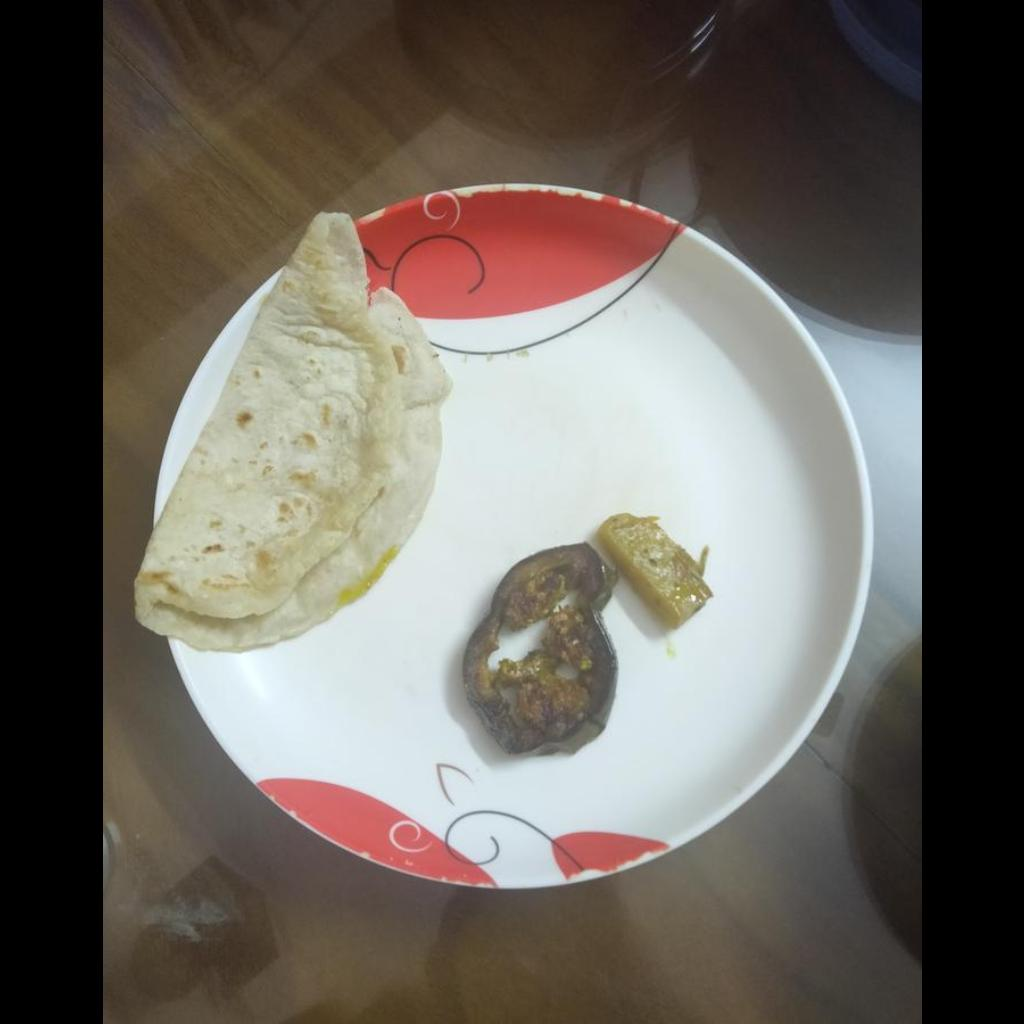begun-vaji: (465, 543, 618, 759)
potol: (594, 513, 711, 628)
ruti: (131, 215, 455, 652)
